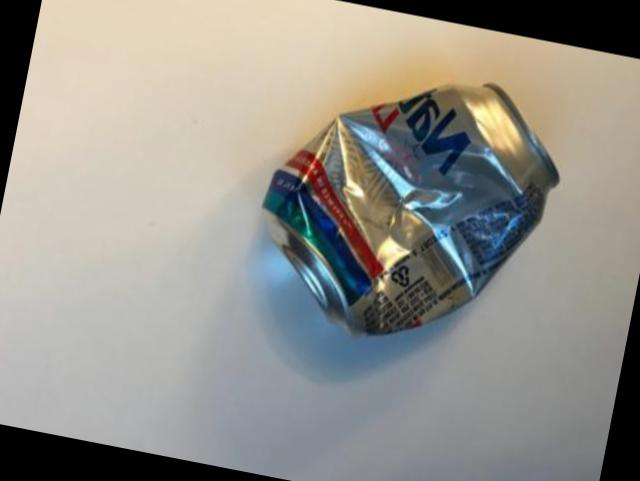metal: (261, 85, 555, 335)
